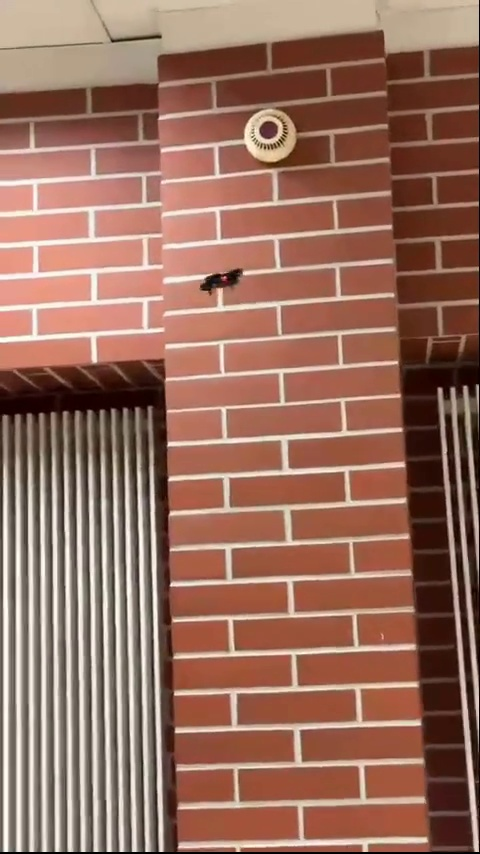drone: (198, 264, 249, 298)
